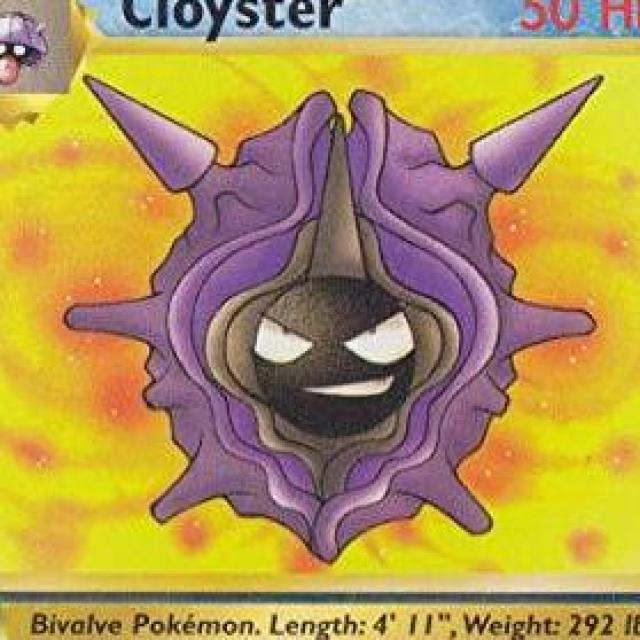Cloyster: (131, 92, 547, 550)
